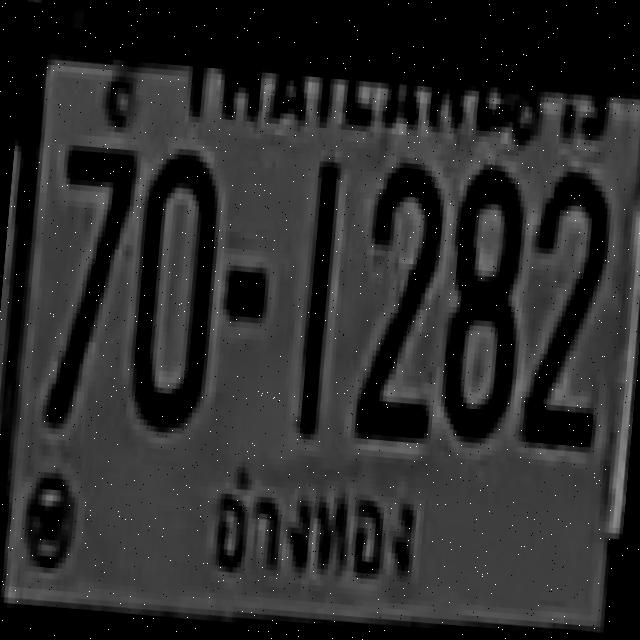0: (124, 142, 224, 426)
1: (292, 155, 338, 434)
2: (516, 163, 612, 447), (352, 160, 444, 438)
7: (42, 138, 134, 422)
8: (434, 160, 526, 436)
AngThong: (194, 452, 434, 614)
